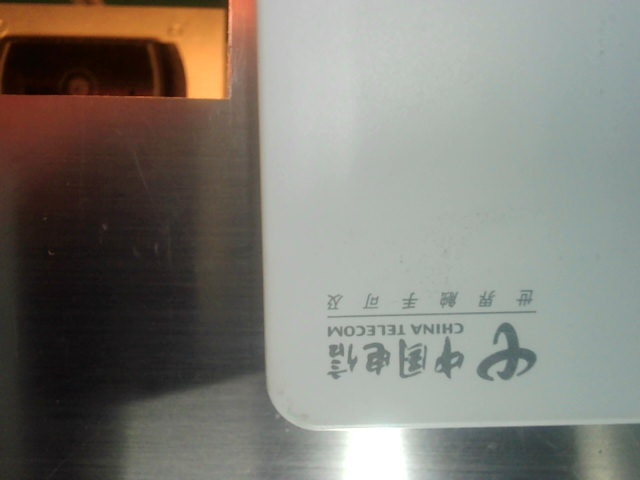AB_ChinaTelecom: (318, 287, 541, 386)
